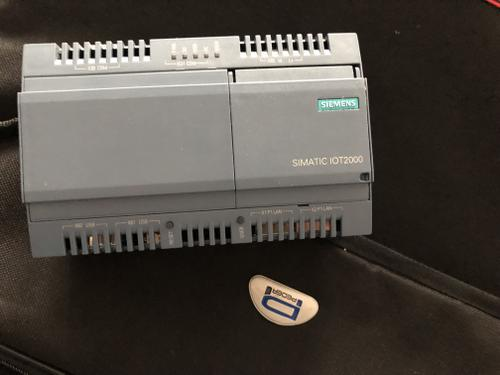device: (18, 33, 375, 259)
